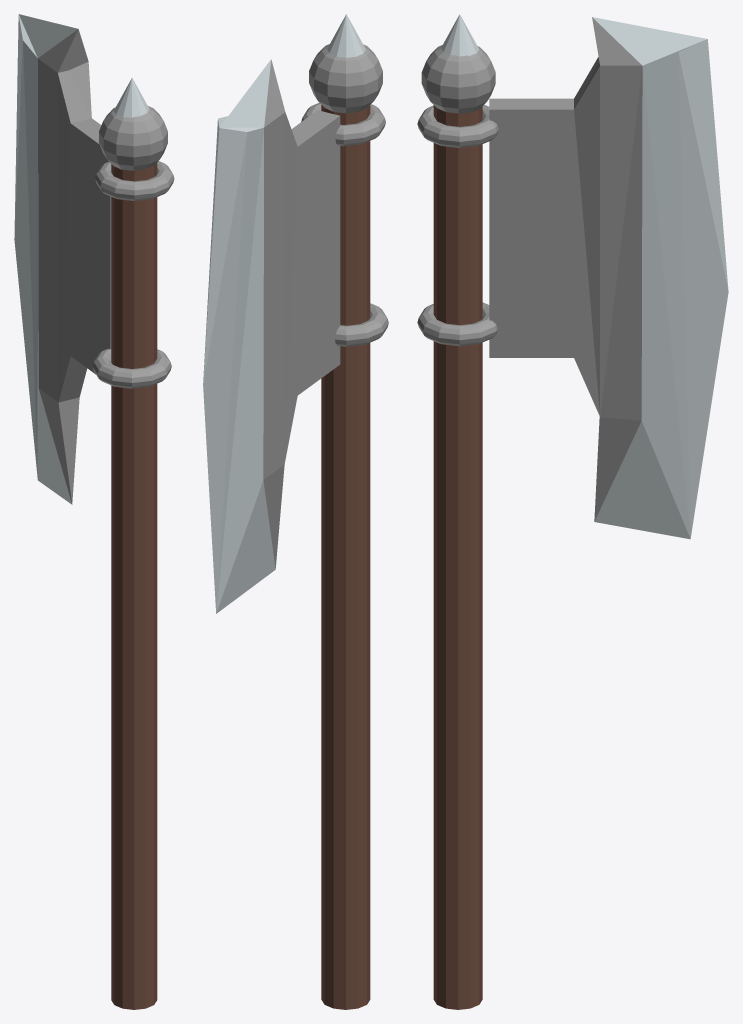
File: axe-by-daniel-l-pez-lacalle-2hgRrLeI45k.glb
3 views of the same model, side by side, from view 1: azimuth 30°, elevation 25°; view 2: azimuth 150°, elevation 25°; view 3: azimuth 270°, elevation 25° (orthographic). The views are drawn at different scales.
Parts seen in each view (by area): view 1: group970275124, group942004581, group1816623196, group139191107, group463066369, group1259787870; view 2: group942004581, group970275124, group1816623196, group463066369, group139191107, group1259787870; view 3: group942004581, group970275124, group1816623196, group463066369, group139191107, group1259787870.
Boxes of the visible parts, bbox=[...] form: group970275124: bbox=[111, 162, 157, 1009]; group942004581: bbox=[14, 14, 111, 504]; group1816623196: bbox=[99, 106, 167, 170]; group139191107: bbox=[92, 348, 171, 388]; group463066369: bbox=[95, 161, 174, 200]; group1259787870: bbox=[114, 78, 149, 117]; group942004581: bbox=[203, 59, 340, 613]; group970275124: bbox=[321, 105, 370, 1009]; group1816623196: bbox=[309, 44, 382, 113]; group463066369: bbox=[301, 102, 385, 146]; group139191107: bbox=[335, 303, 388, 346]; group1259787870: bbox=[327, 14, 365, 57]; group942004581: bbox=[489, 17, 728, 539]; group970275124: bbox=[433, 105, 482, 1009]; group1816623196: bbox=[421, 45, 495, 113]; group463066369: bbox=[417, 104, 498, 147]; group139191107: bbox=[417, 302, 497, 346]; group1259787870: bbox=[441, 14, 479, 56].
Size of the model in its own units: 0.27 by 3.33 by 0.9536.
